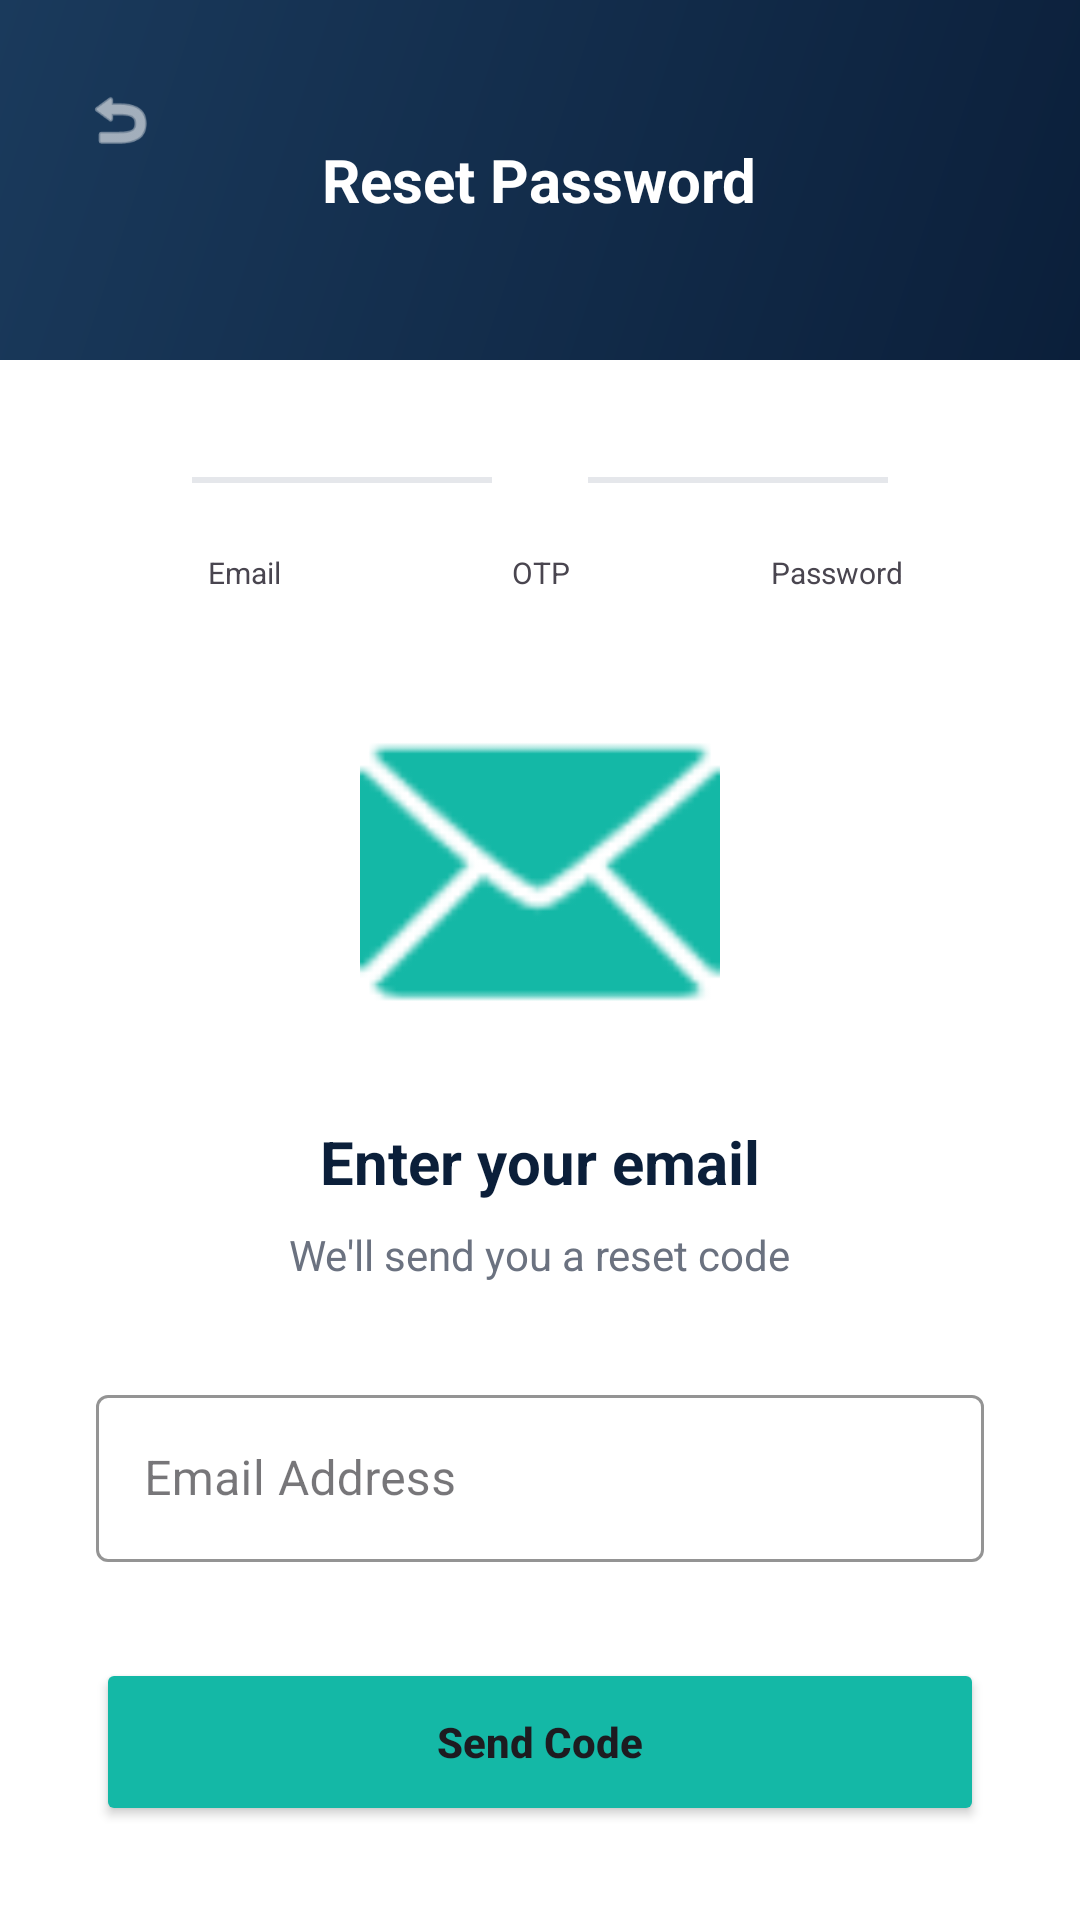

Icons on this 1080*1920 Android screen, each with its box as (left=x1, top=y1, right=x2, bottom=y2):
revert: (left=95, top=97, right=147, bottom=144)
